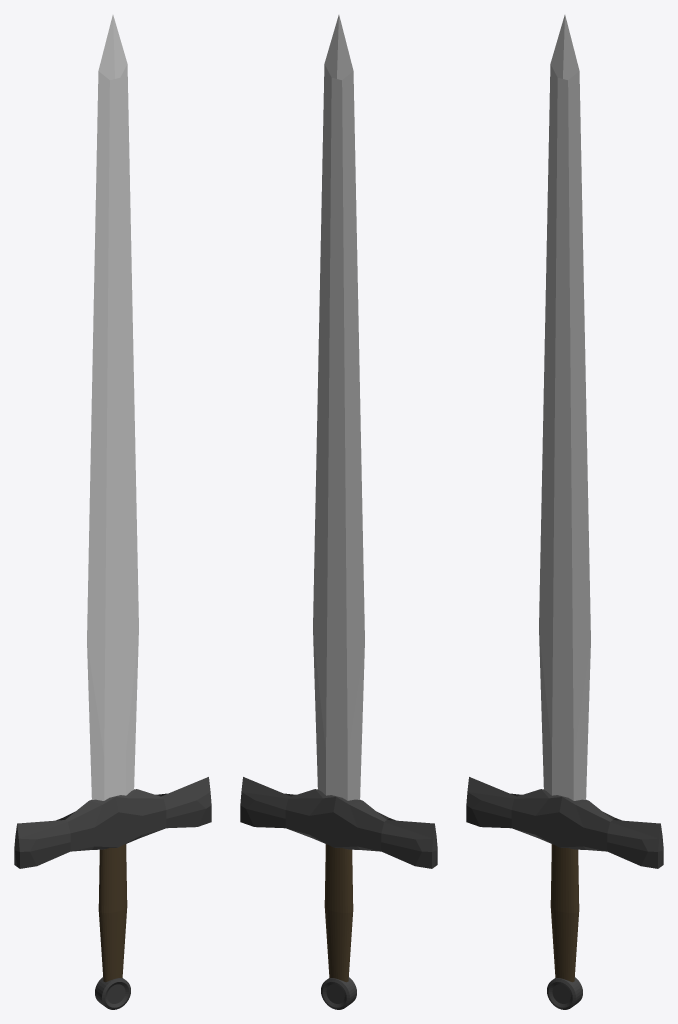
The model's file is Bastard_Sword.glb.
3 views of the same model, side by side, from view 1: azimuth 30°, elevation 25°; view 2: azimuth 150°, elevation 25°; view 3: azimuth 330°, elevation 25° (orthographic).
Parts seen in each view (by area): view 1: Cube, Cube.001, Cylinder, Cylinder.001; view 2: Cube, Cube.001, Cylinder, Cylinder.001; view 3: Cube, Cube.001, Cylinder, Cylinder.001.
Part boxes in pixels (bbox=[...]): Cube: bbox=[87, 15, 138, 800]; Cube.001: bbox=[14, 777, 211, 868]; Cylinder: bbox=[98, 844, 127, 982]; Cylinder.001: bbox=[95, 977, 130, 1009]; Cube: bbox=[313, 15, 364, 800]; Cube.001: bbox=[240, 777, 437, 868]; Cylinder: bbox=[324, 844, 353, 982]; Cylinder.001: bbox=[321, 977, 356, 1009]; Cube: bbox=[539, 15, 590, 800]; Cube.001: bbox=[466, 777, 663, 868]; Cylinder: bbox=[550, 844, 579, 982]; Cylinder.001: bbox=[547, 977, 582, 1009].
Size of the model in its own units: 0.2124 by 1.03 by 0.0206.
